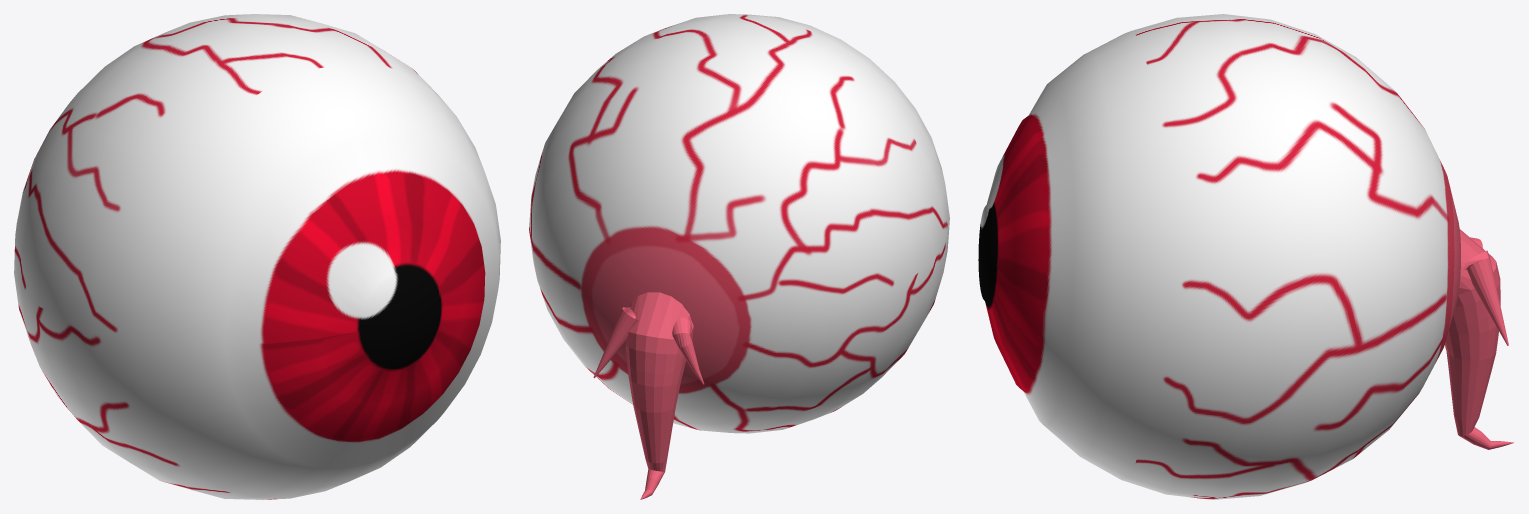
Rendered from Eye.FBX.
3 views of the same model, side by side, from view 1: azimuth 30°, elevation 25°; view 2: azimuth 150°, elevation 25°; view 3: azimuth 270°, elevation 25° (orthographic). The views are drawn at different scales.
Visible parts, largest first — view 1: Sphere001; view 2: Sphere001; view 3: Sphere001.
Part boxes in pixels (x1,y1,x2,y2): Sphere001: (14, 14, 500, 499); Sphere001: (529, 14, 949, 499); Sphere001: (978, 14, 1513, 499).
Bounding box in the file's own units: 39.24 × 43.34 × 39.21.
